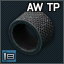Glock 9x19 Alpha Wolf thread protector: (0, 0, 64, 64)
